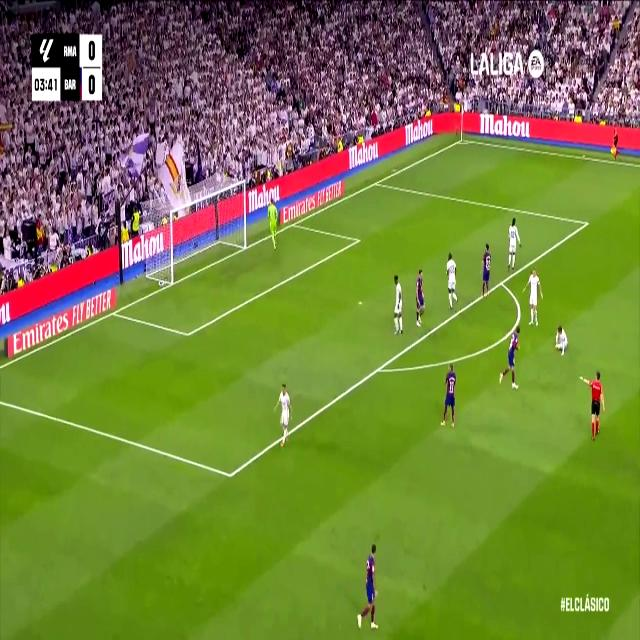bigarea_bottom_inner: (225, 461, 236, 488)
bigarea_top_inner: (582, 213, 590, 232)
bigarea_top_outter: (374, 176, 379, 188)
bottom_arc_area_intersection: (374, 358, 384, 380)
corner: (458, 134, 466, 144)
smallarea_top_inner: (355, 233, 361, 246)
top_arc_area_intersection: (496, 273, 506, 291)
